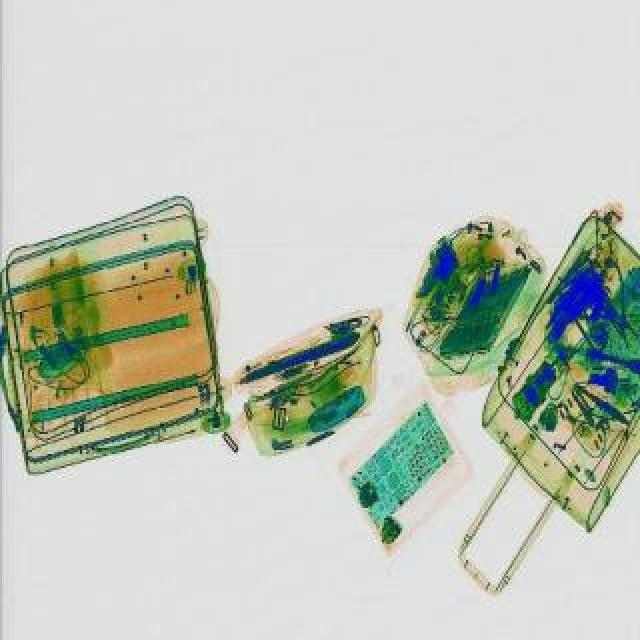wrench: (568, 266, 638, 332)
